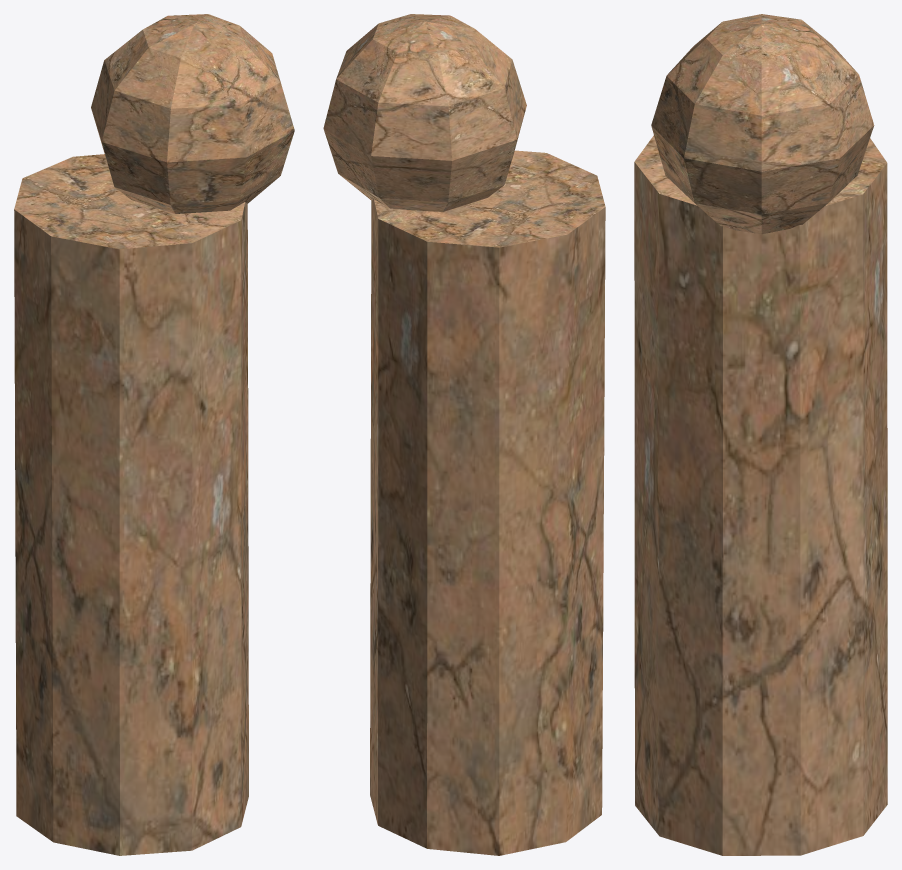
The model's file is cracked_statue.glb.
3 renders of one model, left to right at view 1: azimuth 30°, elevation 25°; view 2: azimuth 150°, elevation 25°; view 3: azimuth 270°, elevation 25°, orthographic. The views are drawn at different scales.
Parts seen in each view (by area): view 1: cracked_statue; view 2: cracked_statue; view 3: cracked_statue.
Part boxes in pixels (x1,y1,x2,y2): cracked_statue: (14, 14, 294, 855); cracked_statue: (323, 14, 605, 855); cracked_statue: (634, 14, 887, 855).
Bounding box in the file's own units: 0.6074 × 1.77 × 0.4994.
Materials: 1 (1 with a texture image).
